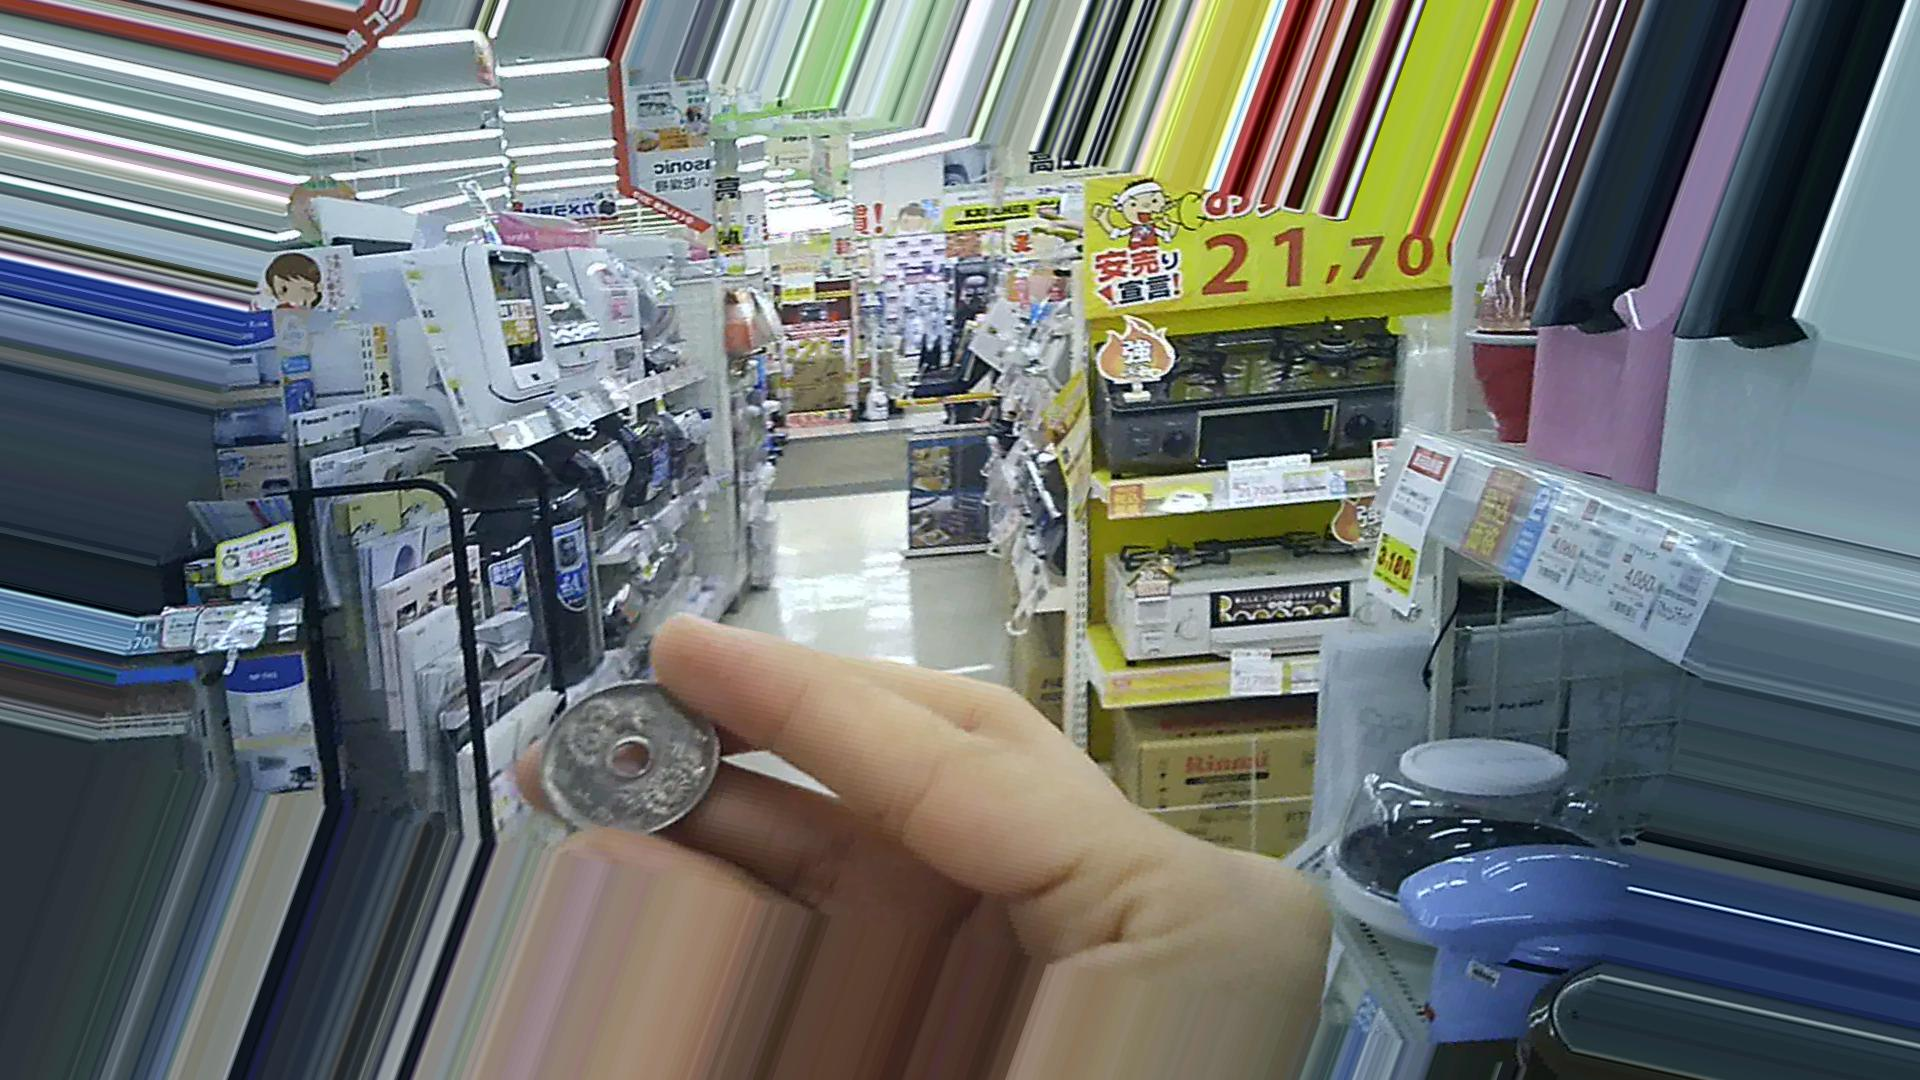50 Yen: (537, 675, 741, 833)
